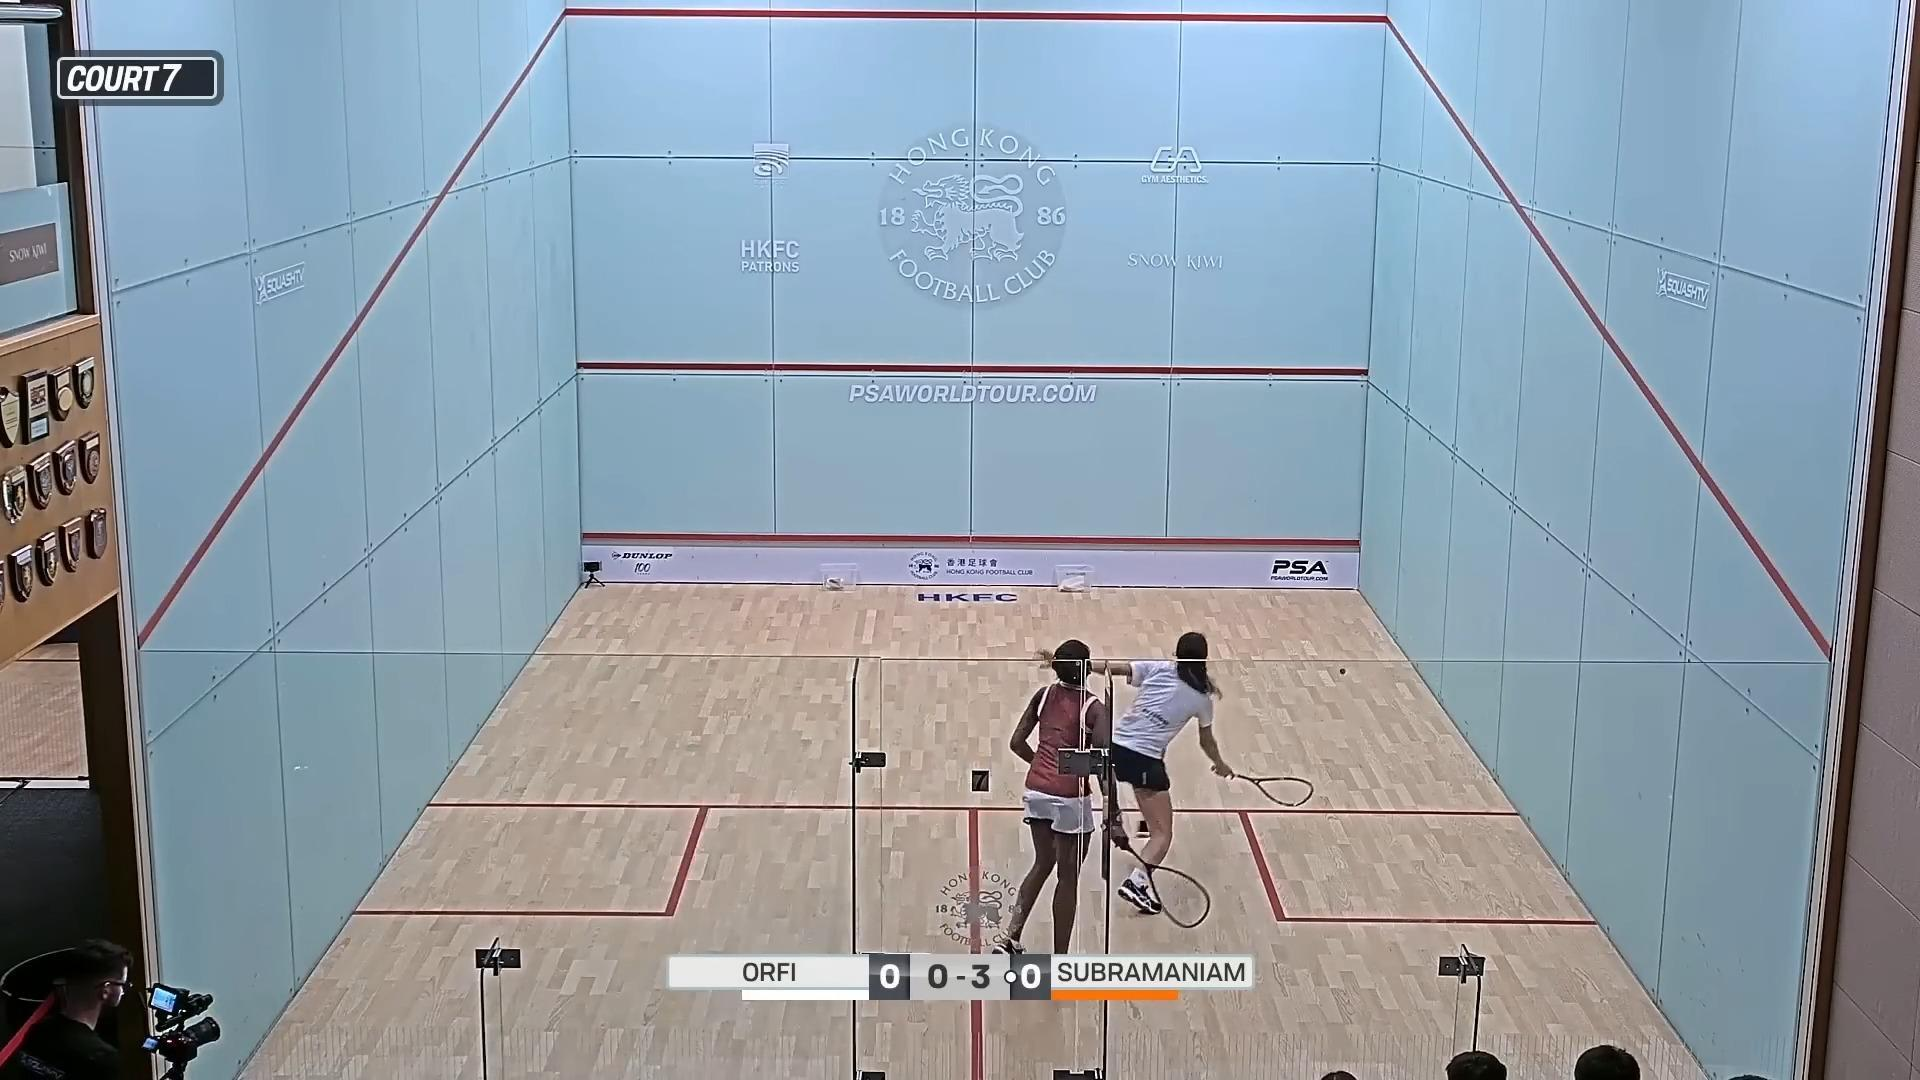Squash-Ball: (1327, 661, 1361, 680)
